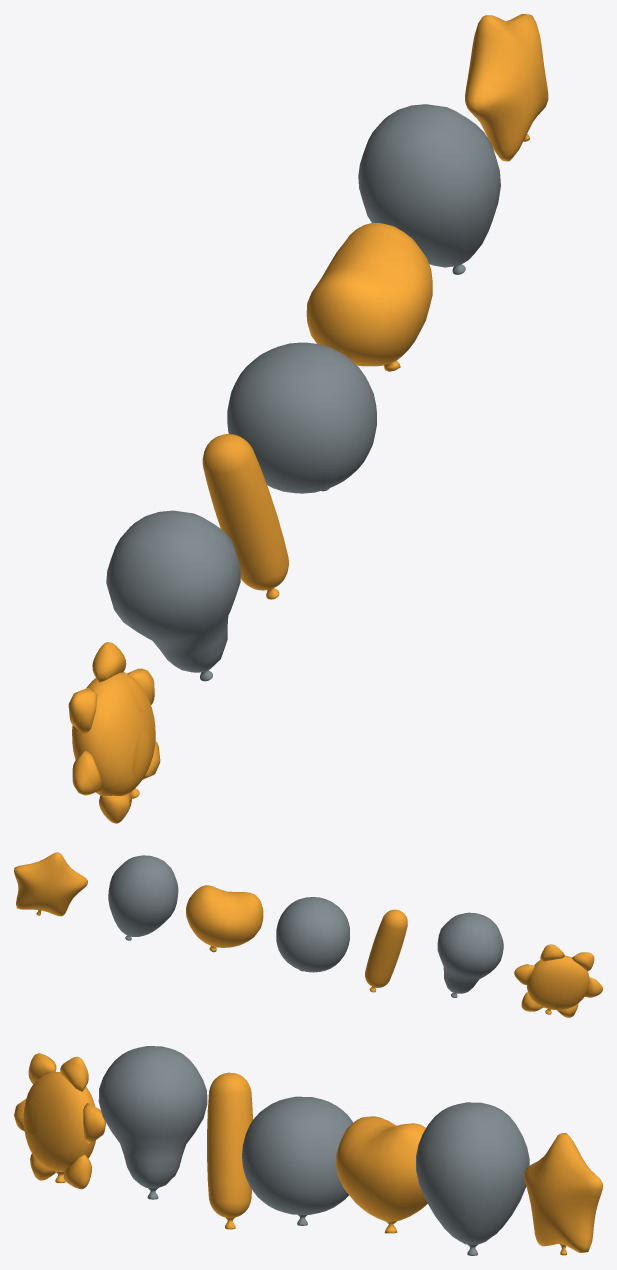
The model's file is baloon.gltf.
The picture shows the model from 3 angles, top to bottom: view 1: azimuth 30°, elevation 25°; view 2: azimuth 150°, elevation 25°; view 3: azimuth 270°, elevation 25°; orthographic projection. The views are drawn at different scales.
Visible parts, largest first — view 1: Object_14, Object_11; view 2: Object_11, Object_14; view 3: Object_14, Object_11.
Boxes of the visible parts, x1,y1,x2,y2 form: Object_14: (106,104,500,681); Object_11: (68,14,548,823); Object_11: (14,852,602,1017); Object_14: (108,855,503,997); Object_14: (98,1046,529,1255); Object_11: (14,1053,602,1255).
Bounding box in the file's own units: 6.3 × 2.92 × 4.88.
